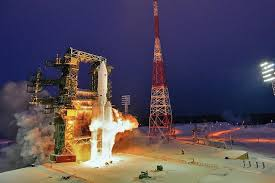ten_lua: (95, 57, 115, 133)
